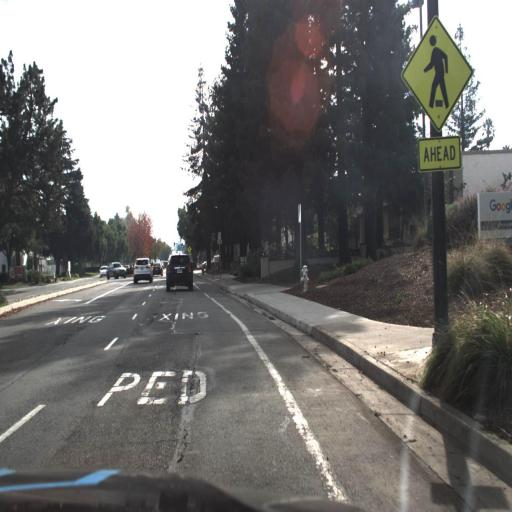car: (164, 253, 194, 291), (131, 255, 154, 285), (106, 258, 127, 284)
